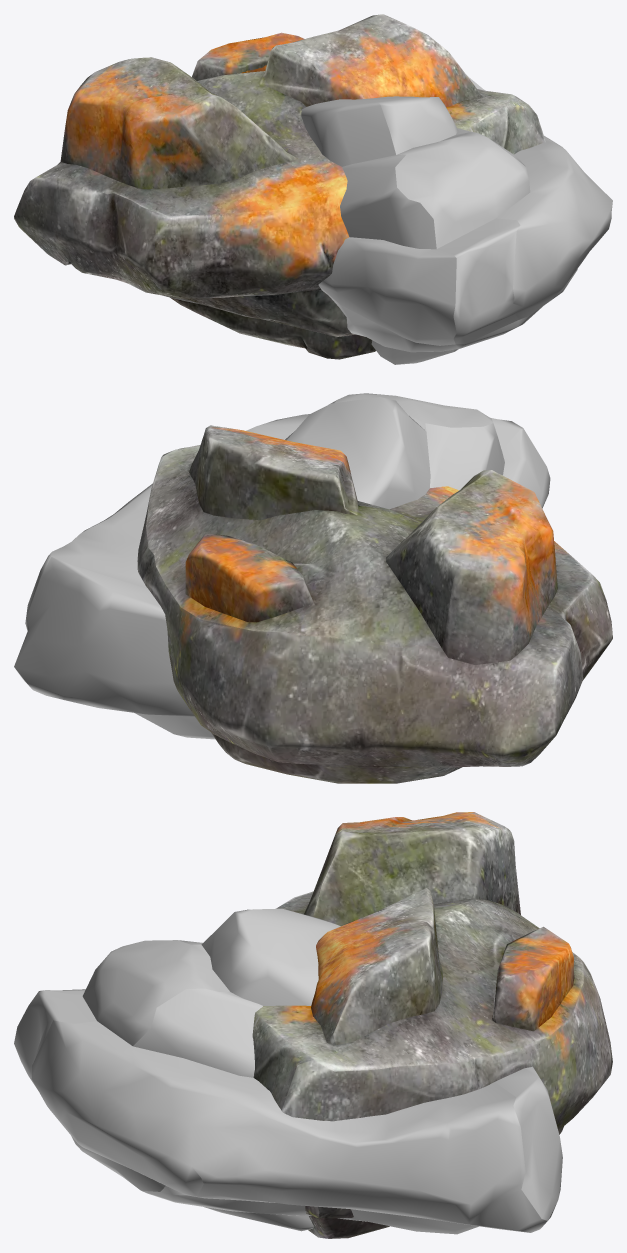
3 views of the same model, one above another, from view 1: azimuth 30°, elevation 25°; view 2: azimuth 150°, elevation 25°; view 3: azimuth 270°, elevation 25° (orthographic). The views are drawn at different scales.
Visible parts, largest first — view 1: SM_Mining_Node_Medium_A_LOD0; view 2: SM_Mining_Node_Medium_A_LOD0; view 3: SM_Mining_Node_Medium_A_LOD0.
Boxes of the visible parts, x1,y1,x2,y2 form: SM_Mining_Node_Medium_A_LOD0: (14,14,612,364); SM_Mining_Node_Medium_A_LOD0: (14,393,612,783); SM_Mining_Node_Medium_A_LOD0: (14,812,612,1238).
Size of the model in its own units: 3.55 by 1.97 by 3.53.
